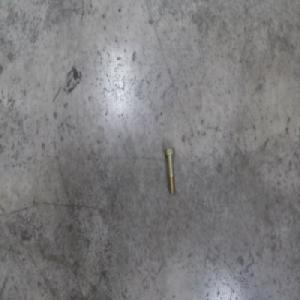Bolt: (161, 146, 174, 195)
